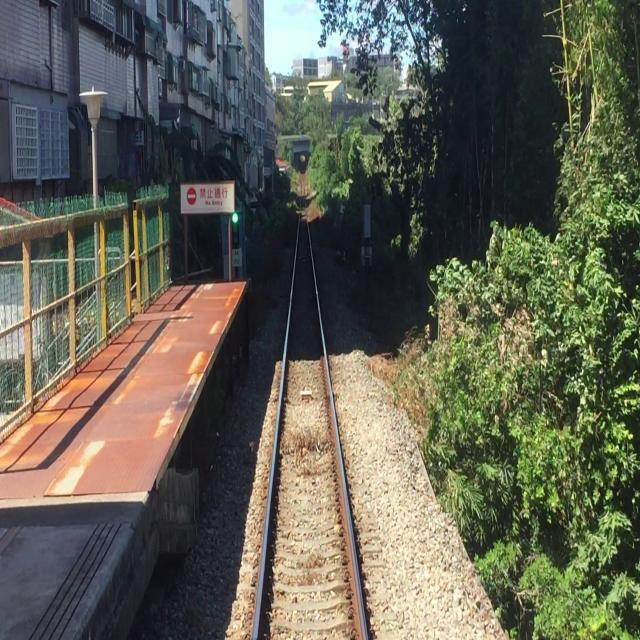track: (246, 194, 378, 640)
